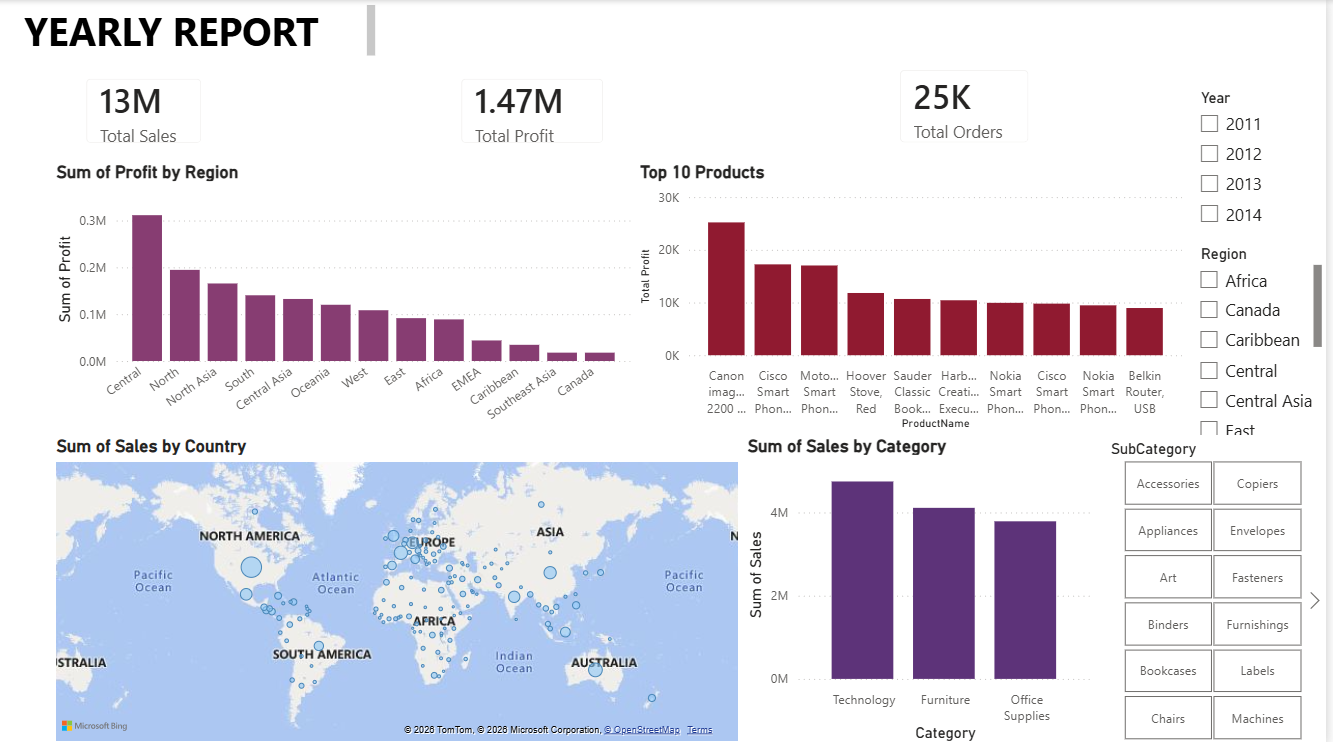

What the dashboard file says about the page in this screenshot:
{"tool":"powerbi","page":{"name":"Page 1","canvas":[1280,720],"ordinal":0},"visuals":[{"type":"columnChart","fields":{"Y":["Sum(superstore.Profit)"],"Category":["superstore.Region"]},"box":[49.4,155.1,564,286.8],"z":0},{"type":"textbox","box":[18.1,0,348.7,59.1],"z":1000},{"type":"clusteredColumnChart","fields":{"Category":["superstore.Category"],"Y":["Sum(superstore.Sales)"]},"box":[716.6,419.8,342.6,300.4],"z":2000},{"type":"map","fields":{"Category":["superstore.Country"],"Size":["Sum(superstore.Sales)"]},"box":[49.4,419.9,668.3,300.5],"z":3000},{"type":"slicer","fields":{"Values":["superstore.Year"]},"box":[1146.1,80.8,133.9,150.8],"z":4000},{"type":"slicer","fields":{"Values":["superstore.Region"]},"box":[1145.8,231.1,134.5,201.8],"z":5000},{"type":"cardVisual","fields":{"Data":["superstore.Total Sales"]},"box":[65.9,59,145.5,96.1],"z":6000},{"type":"cardVisual","fields":{"Data":["superstore.Total Profit"]},"box":[428.3,59.1,171.3,96.5],"z":7000},{"type":"cardVisual","fields":{"Data":["superstore.Total Orders"]},"box":[851.7,50.7,158,105],"z":8000},{"type":"columnChart","title":"Top 10 Products","fields":{"Category":["superstore.ProductName"],"Y":["superstore.Total Profit"]},"box":[612.9,155.6,533.2,264.2],"z":9000},{"type":"slicer","fields":{"Values":["superstore.SubCategory"]},"box":[1059.3,419.8,220.8,300.4],"z":10000}]}

Visuals, with their boxes in screenshot pixels (x1, y1, x2, y2), scaled from the page's 1280x720 canvas onto the 1333x742 screenshot:
columnChart - Sum(superstore.Profit) x superstore.Region: bbox(51, 160, 639, 455)
textbox: bbox(19, 0, 382, 61)
clusteredColumnChart - superstore.Category x Sum(superstore.Sales): bbox(746, 433, 1103, 741)
map - superstore.Country x Sum(superstore.Sales): bbox(51, 433, 747, 741)
slicer - superstore.Year: bbox(1194, 83, 1332, 239)
slicer - superstore.Region: bbox(1193, 238, 1332, 446)
cardVisual - superstore.Total Sales: bbox(69, 61, 220, 160)
cardVisual - superstore.Total Profit: bbox(446, 61, 624, 160)
cardVisual - superstore.Total Orders: bbox(887, 52, 1052, 160)
"Top 10 Products" columnChart: bbox(638, 160, 1194, 433)
slicer - superstore.SubCategory: bbox(1103, 433, 1332, 741)
